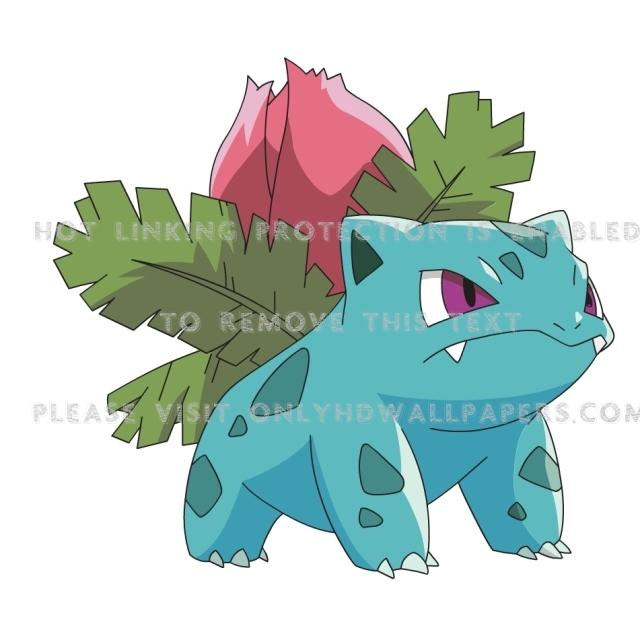Ivysaur: (172, 68, 614, 565)
